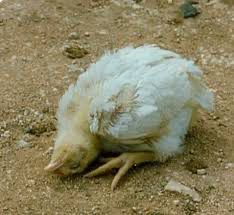Unhealthy: (42, 40, 205, 191)
